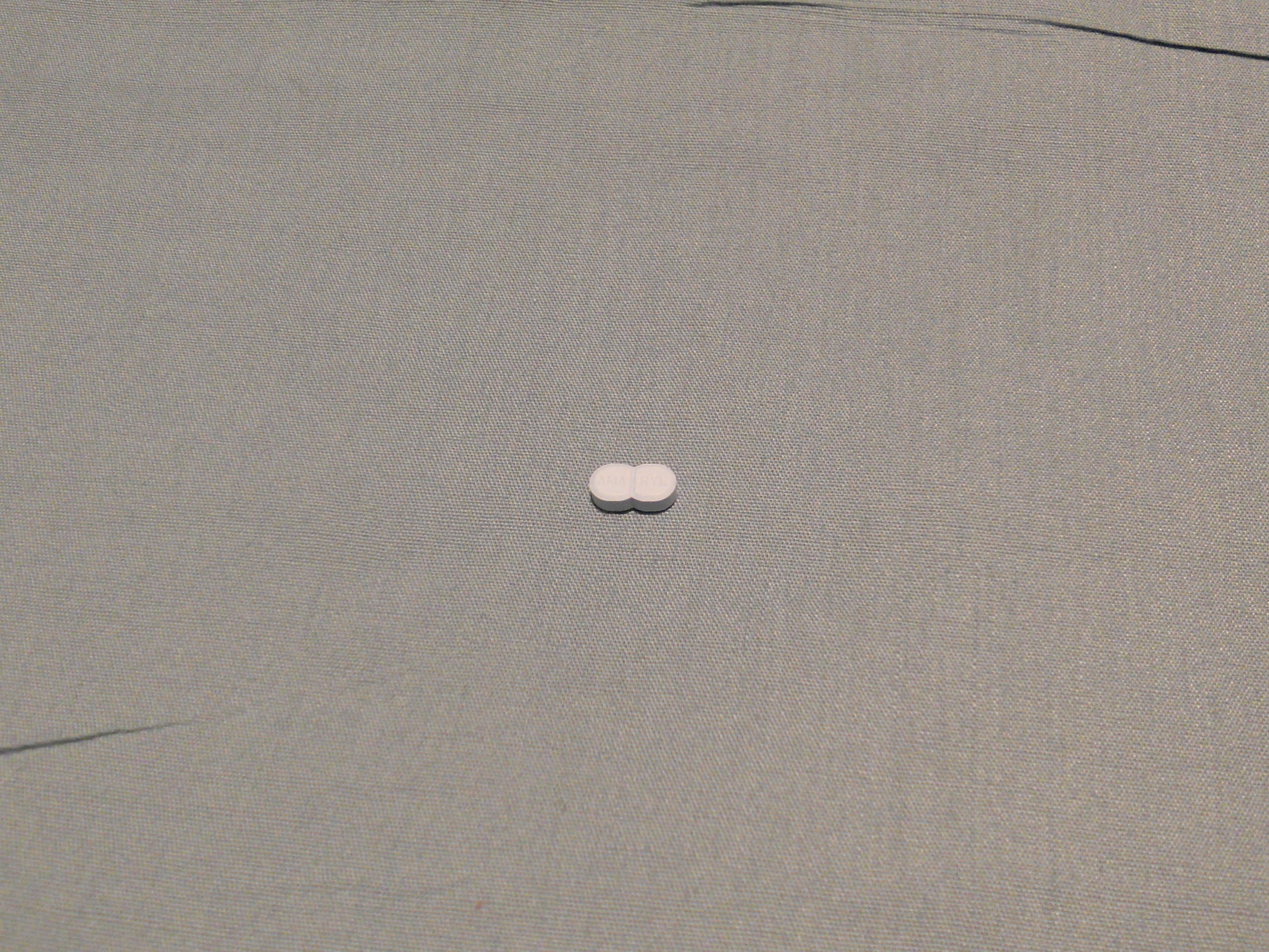Pill: (573, 451, 707, 532)
